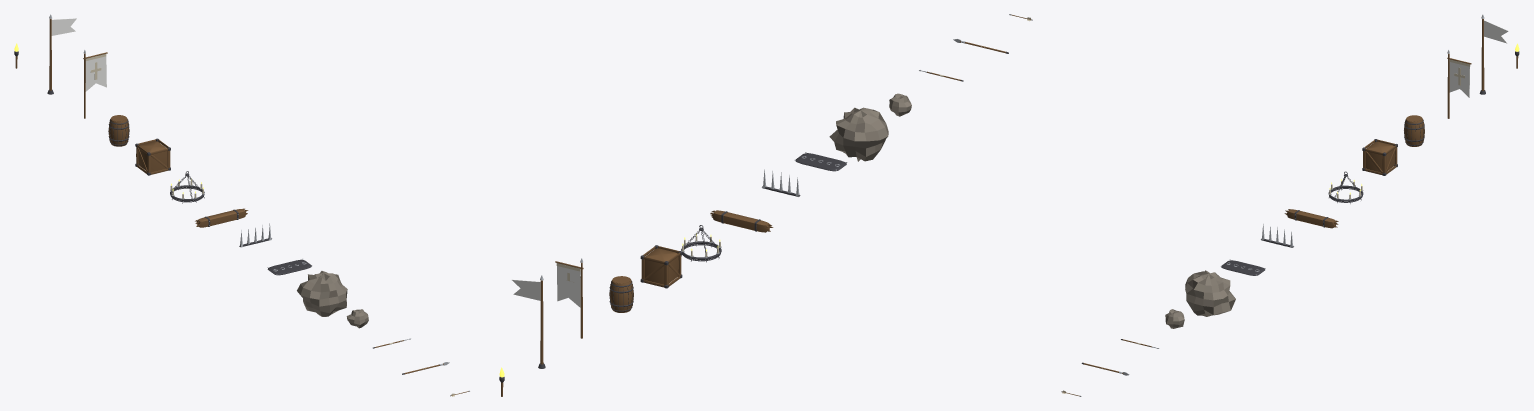
The picture shows the model from 3 angles, left to right: view 1: azimuth 30°, elevation 25°; view 2: azimuth 150°, elevation 25°; view 3: azimuth 330°, elevation 25°; orthographic projection. The views are drawn at different scales.
Visible parts, largest first — view 1: Boulder_Mesh, Crate_Mesh, Banner_Mesh, Barrel_Mesh, LandingFlag_Mesh, FallingBeam_Mesh, Chandelier_Mesh, SpikeTrap_Base_Mesh; view 2: Boulder_Mesh, Crate_Mesh, Banner_Mesh, Barrel_Mesh, LandingFlag_Mesh, FallingBeam_Mesh, Chandelier_Mesh, SpikeTrap_Base_Mesh; view 3: Boulder_Mesh, Crate_Mesh, Banner_Mesh, Barrel_Mesh, LandingFlag_Mesh, FallingBeam_Mesh, Chandelier_Mesh, SpikeTrap_Base_Mesh.
Boxes of the visible parts, box(x1,y1,x2,y2) form: Boulder_Mesh: box(297, 271, 347, 316); Crate_Mesh: box(135, 138, 170, 175); Banner_Mesh: box(83, 50, 107, 118); Barrel_Mesh: box(108, 115, 129, 146); LandingFlag_Mesh: box(47, 14, 76, 94); FallingBeam_Mesh: box(195, 208, 248, 227); Chandelier_Mesh: box(170, 171, 204, 203); SpikeTrap_Base_Mesh: box(267, 258, 312, 275); Boulder_Mesh: box(829, 107, 888, 161); Crate_Mesh: box(640, 245, 682, 288); Banner_Mesh: box(555, 258, 583, 338); Barrel_Mesh: box(609, 276, 633, 312); LandingFlag_Mesh: box(512, 275, 545, 368); FallingBeam_Mesh: box(710, 210, 773, 232); Chandelier_Mesh: box(681, 225, 721, 262); SpikeTrap_Base_Mesh: box(794, 152, 847, 171); Boulder_Mesh: box(1185, 270, 1235, 316); Crate_Mesh: box(1362, 139, 1397, 175); Banner_Mesh: box(1447, 50, 1471, 118); Barrel_Mesh: box(1404, 115, 1424, 146); LandingFlag_Mesh: box(1479, 14, 1508, 94); FallingBeam_Mesh: box(1284, 209, 1338, 228); Chandelier_Mesh: box(1328, 171, 1363, 203); SpikeTrap_Base_Mesh: box(1220, 259, 1265, 275).
Size of the model in its own units: 2.24 by 4.03 by 32.64.
